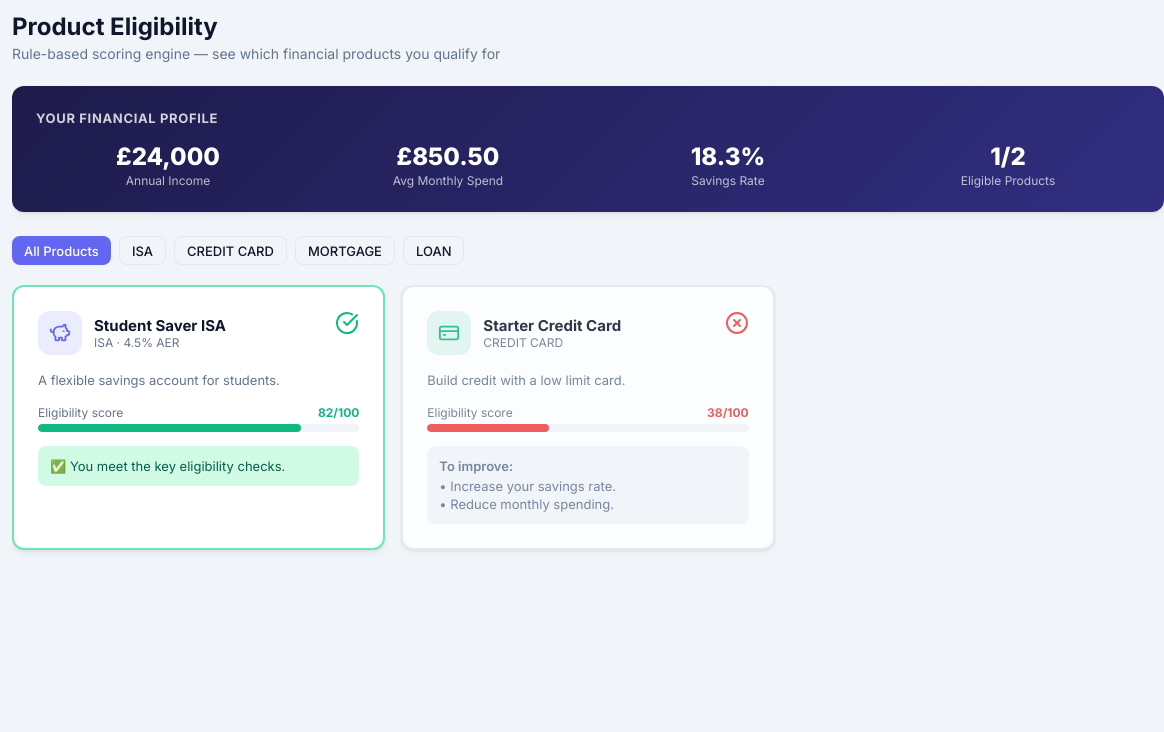
Scenario: Eligibility › filters products when a product type button is selected
The width and height of the screenshot is (1164, 732).
Check: the text "Student Saver ISA" is shown, box [94,316,226,335]
Check: the text "Starter Credit Card" is shown, box [483,316,621,335]
Click the button "CREDIT CARD": x=230, y=251 [174,236,287,265]
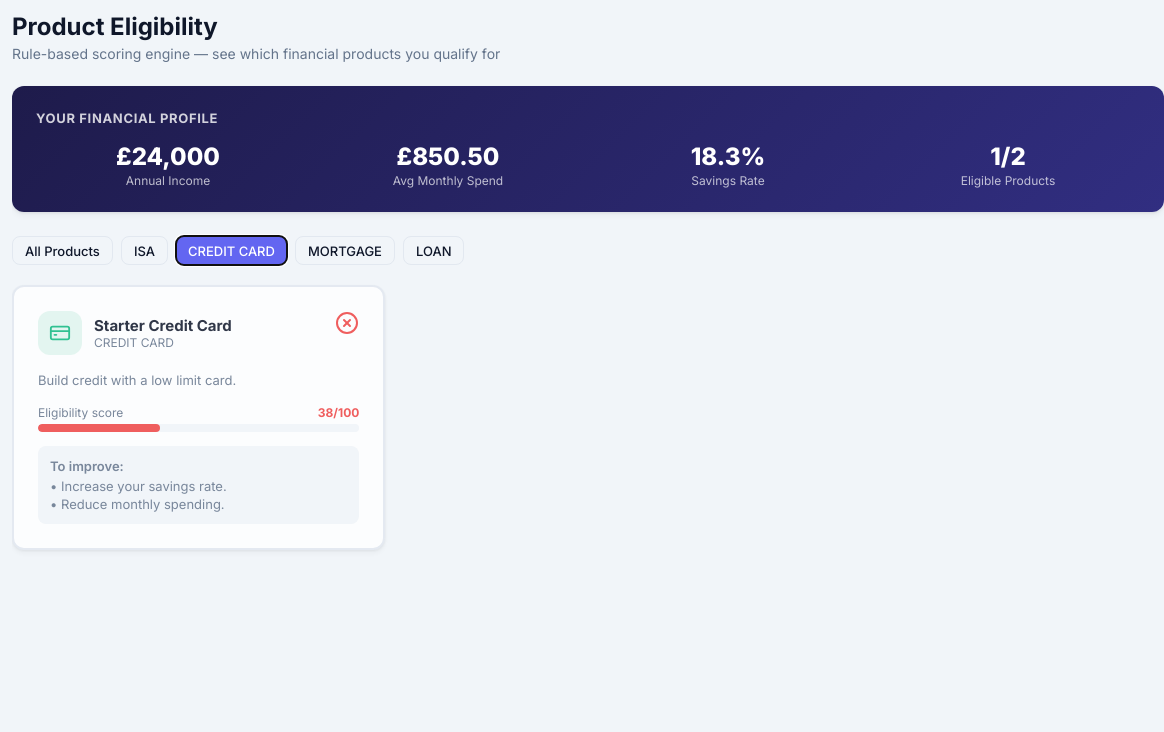
Check: the text "Starter Credit Card" is shown, box [94,316,232,335]
Check: the text "Student Saver ISA" is gone
